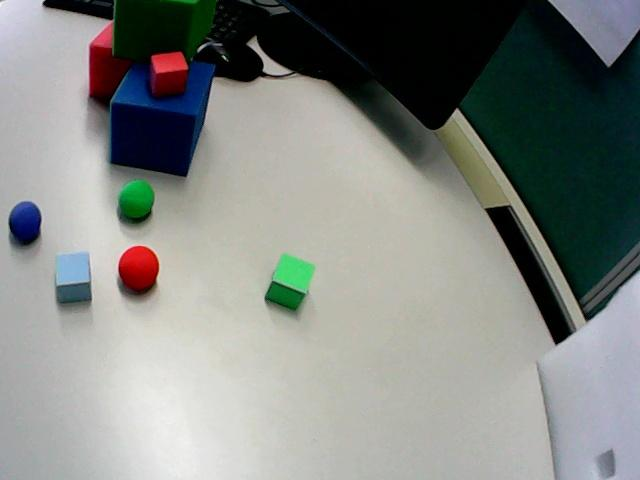blue_block: (110, 62, 214, 175), (56, 252, 91, 302)
red_block: (89, 22, 132, 99), (150, 52, 187, 96)
